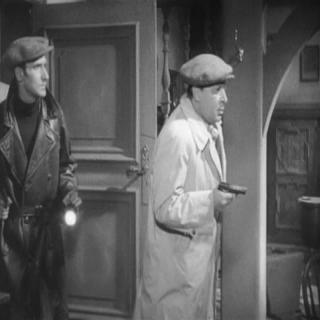gun: (208, 174, 248, 214)
